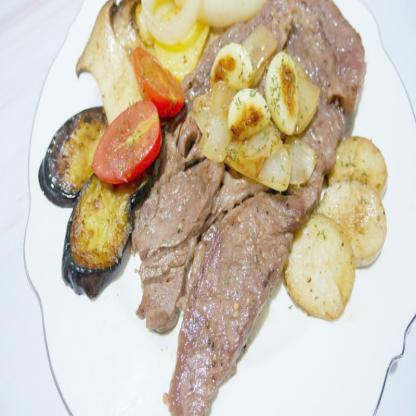Carne: (169, 0, 365, 415), (139, 0, 308, 337)
